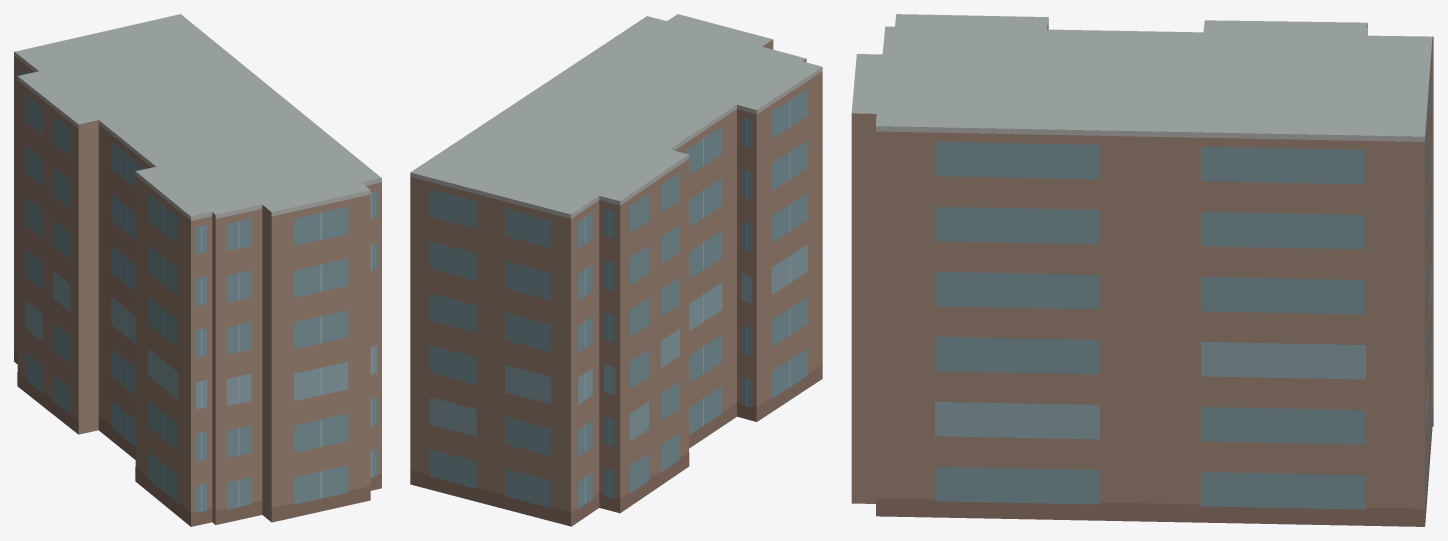
File: survey-upis-32664501.glb
3 renders of one model, left to right at view 1: azimuth 30°, elevation 25°; view 2: azimuth 150°, elevation 25°; view 3: azimuth 270°, elevation 25°, orthographic. The views are drawn at different scales.
Visible parts, largest first — view 1: survey-upis-32664501.tmp; view 2: survey-upis-32664501.tmp; view 3: survey-upis-32664501.tmp.
Boxes of the visible parts, box(x1,y1,x2,y2) form: survey-upis-32664501.tmp: box(14, 14, 381, 526); survey-upis-32664501.tmp: box(410, 14, 822, 526); survey-upis-32664501.tmp: box(851, 14, 1433, 526).
Size of the model in its own units: 12.08 by 17.9 by 24.2.
